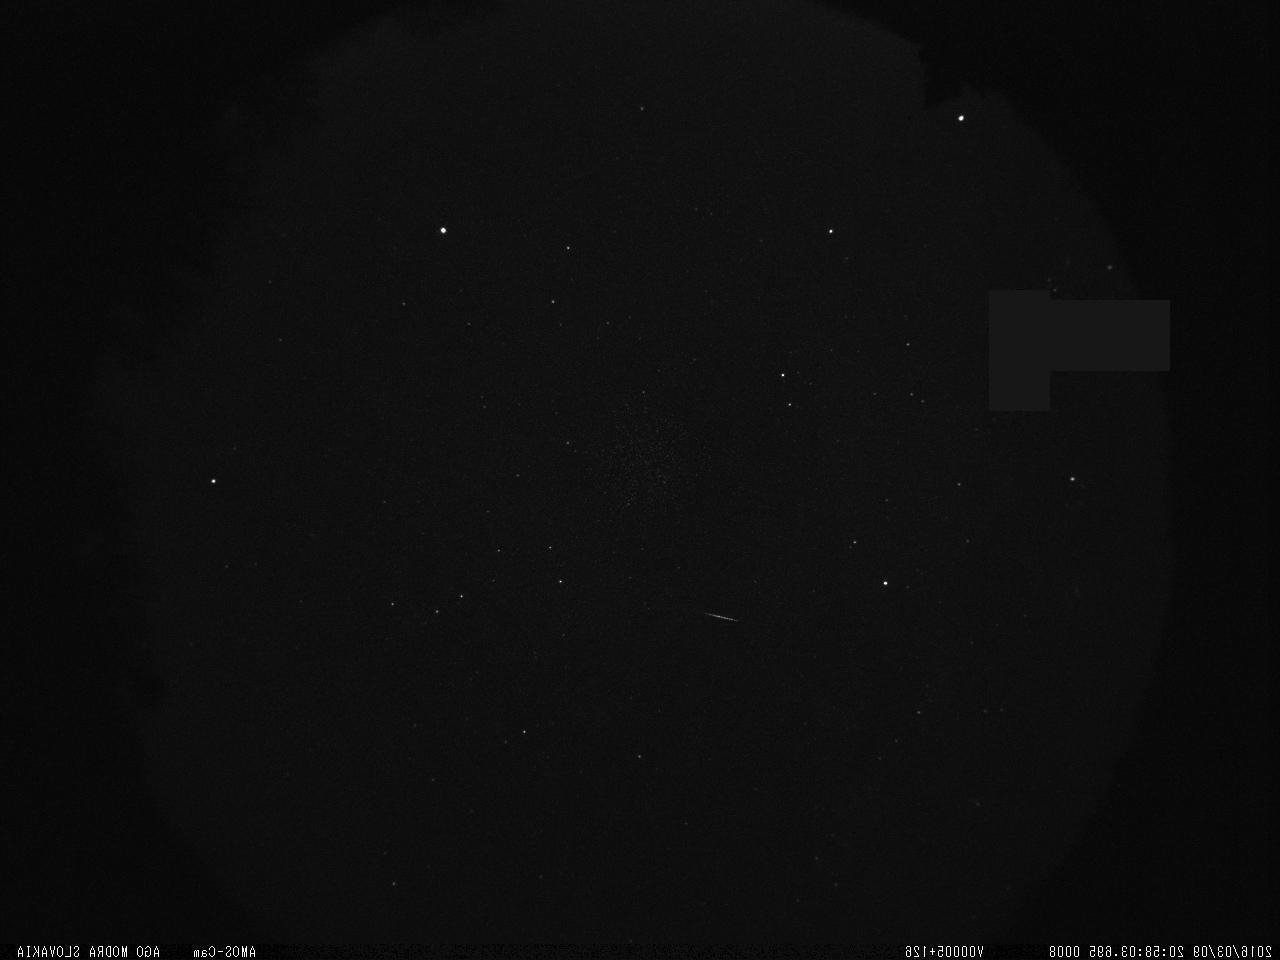meteor: (698, 605, 747, 628)
